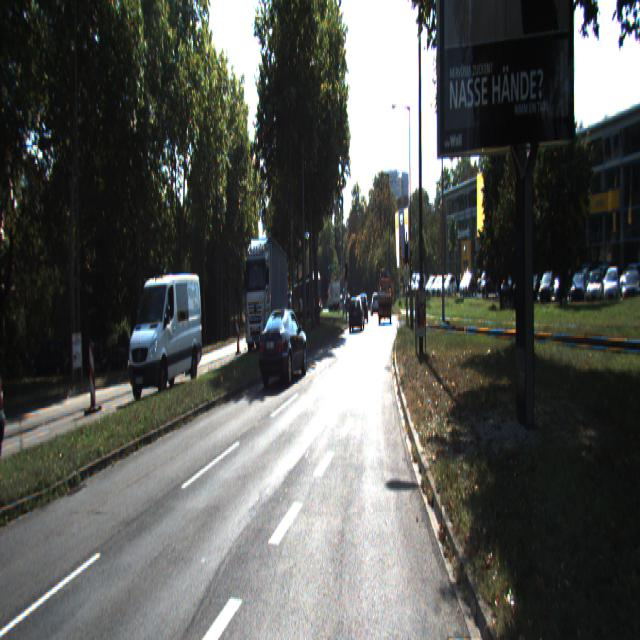Car: (127, 268, 203, 399), (245, 238, 289, 354), (258, 307, 309, 386), (378, 276, 393, 324), (349, 297, 365, 333)
